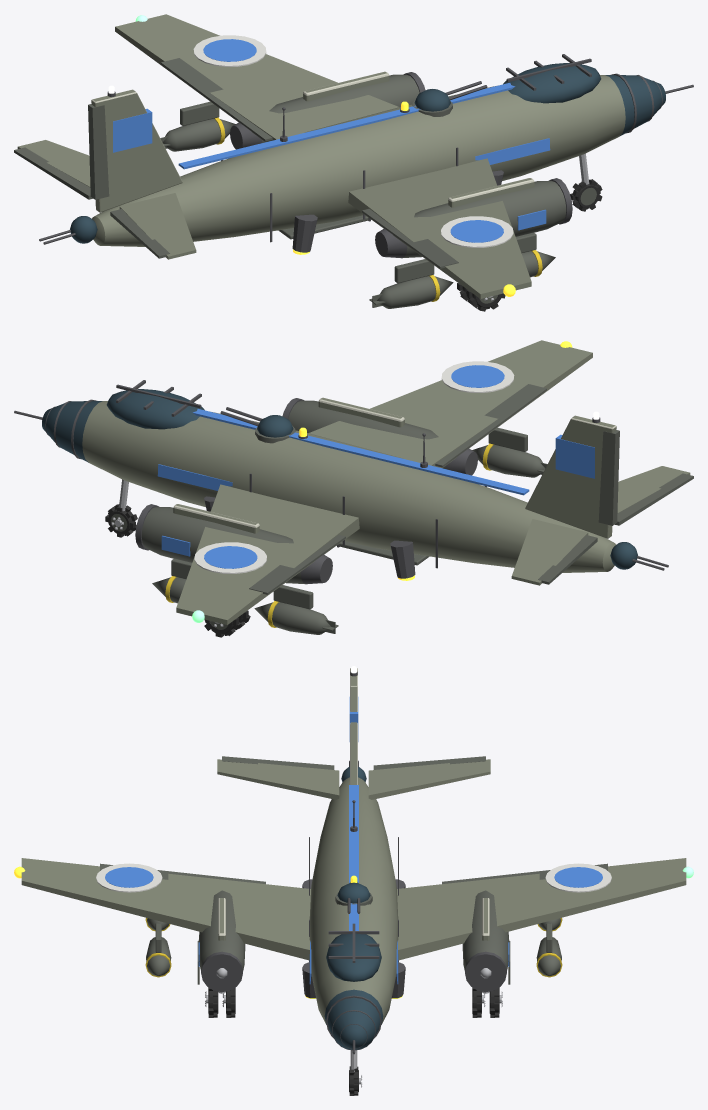
Rendered from bomber_blue.glb.
3 views of the same model, one above another, from view 1: azimuth 30°, elevation 25°; view 2: azimuth 150°, elevation 25°; view 3: azimuth 270°, elevation 25° (orthographic). The views are drawn at different scales.
Parts seen in each view (by area): view 1: Body, LandingGearN, LandingGearR; view 2: Body, LandingGearN, LandingGearL; view 3: Body, LandingGearL, LandingGearR.
Part boxes in pixels (x1=…): Body: x1=14, y1=14, x2=693, y2=308; LandingGearN: x1=570, y1=153, x2=602, y2=211; LandingGearR: x1=457, y1=283, x2=505, y2=311; Body: x1=14, y1=340, x2=693, y2=634; LandingGearN: x1=105, y1=479, x2=137, y2=537; LandingGearL: x1=204, y1=610, x2=250, y2=637; Body: x1=14, y1=666, x2=693, y2=1054; LandingGearL: x1=472, y1=987, x2=502, y2=1017; LandingGearR: x1=205, y1=987, x2=235, y2=1017.
Bounding box in the file's own units: 7 × 2.46 × 6.96.
1 material, 1 textured.
